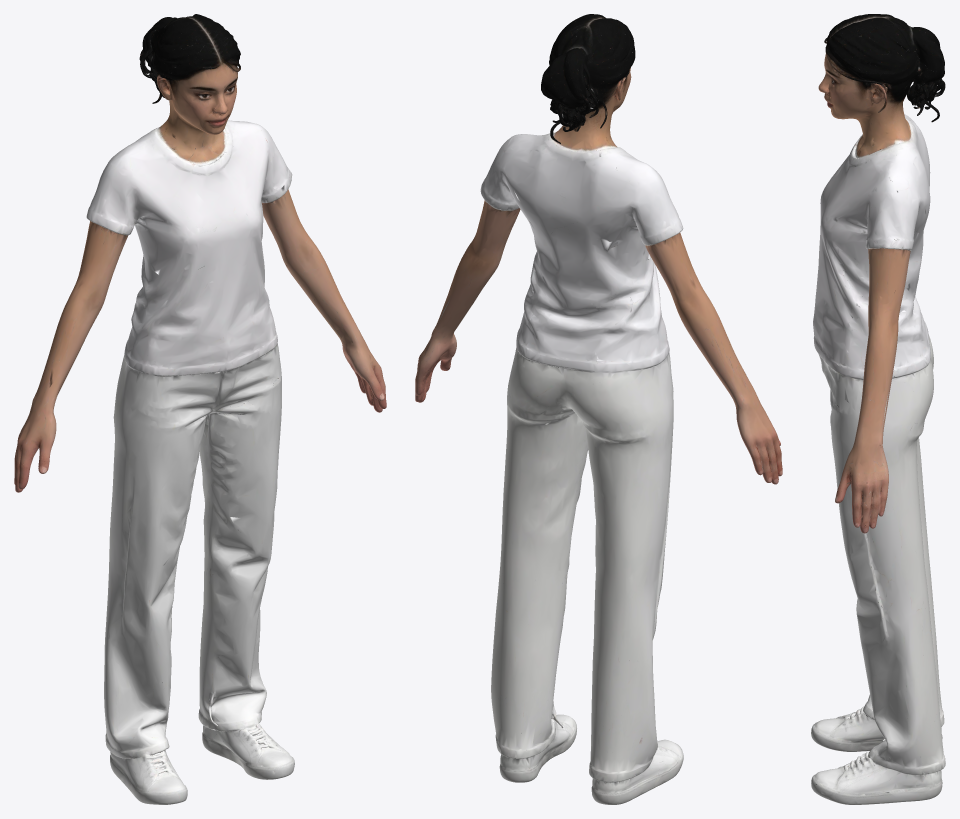
File: body.glb
3 renders of one model, left to right at view 1: azimuth 30°, elevation 25°; view 2: azimuth 150°, elevation 25°; view 3: azimuth 270°, elevation 25°, orthographic.
Parts seen in each view (by area): view 1: Mesh_0; view 2: Mesh_0; view 3: Mesh_0.
Part boxes in pixels (left/top/right/bottom): Mesh_0: left=14, top=14, right=386, bottom=804; Mesh_0: left=415, top=14, right=782, bottom=804; Mesh_0: left=811, top=14, right=945, bottom=804.
Size of the model in its own units: 0.8491 by 1.68 by 0.2723.
1 material, 1 textured.
